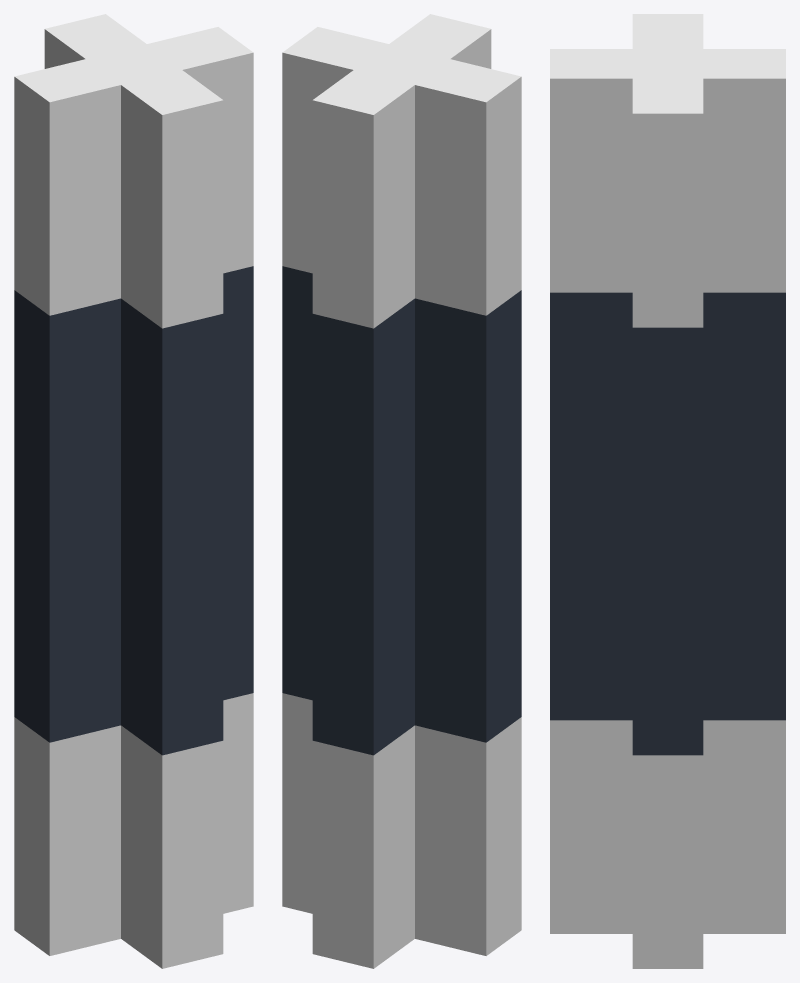
Rendered from SM_OfficeCrossThick.fbx.
3 views of the same model, side by side, from view 1: azimuth 30°, elevation 25°; view 2: azimuth 150°, elevation 25°; view 3: azimuth 270°, elevation 25° (orthographic).
Visible parts, largest first — view 1: SM_CrossThick; view 2: SM_CrossThick; view 3: SM_CrossThick.
Part boxes in pixels (<box>): SM_CrossThick: <box>14,14,253,968</box>; SM_CrossThick: <box>282,14,521,968</box>; SM_CrossThick: <box>550,14,785,968</box>.
Bounding box in the file's own units: 100 × 400 × 100.
